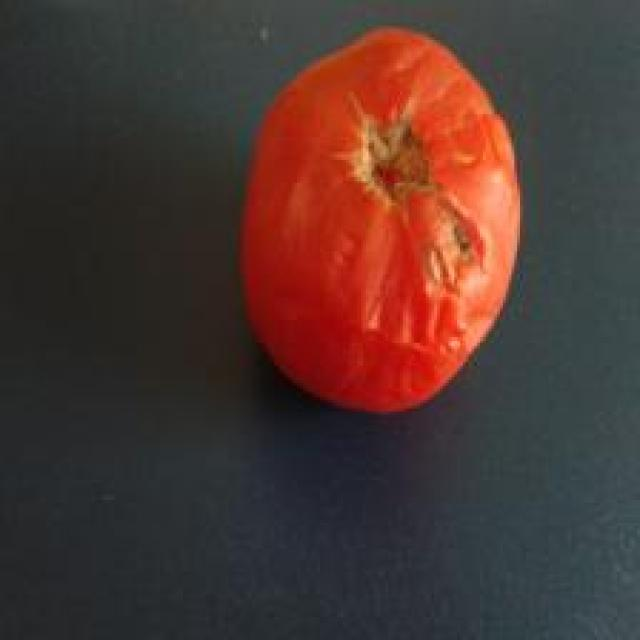overripe: (234, 21, 529, 418)
